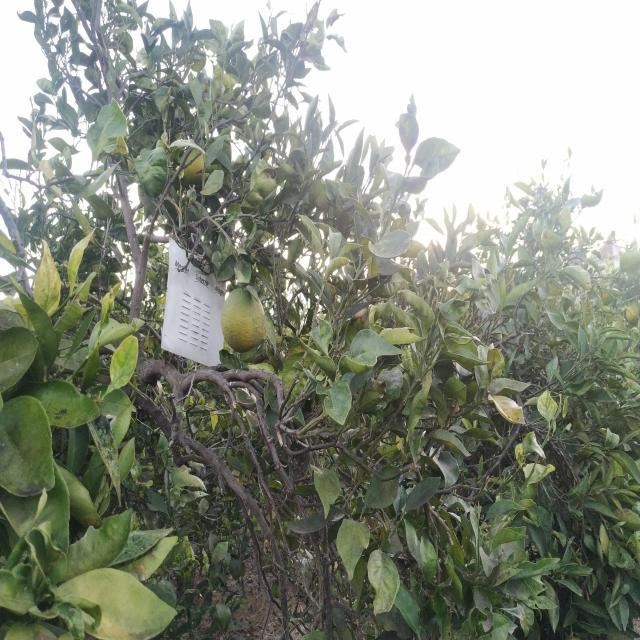Jeruk Belum Matang: (220, 288, 265, 350), (182, 148, 208, 185), (625, 302, 640, 323)
